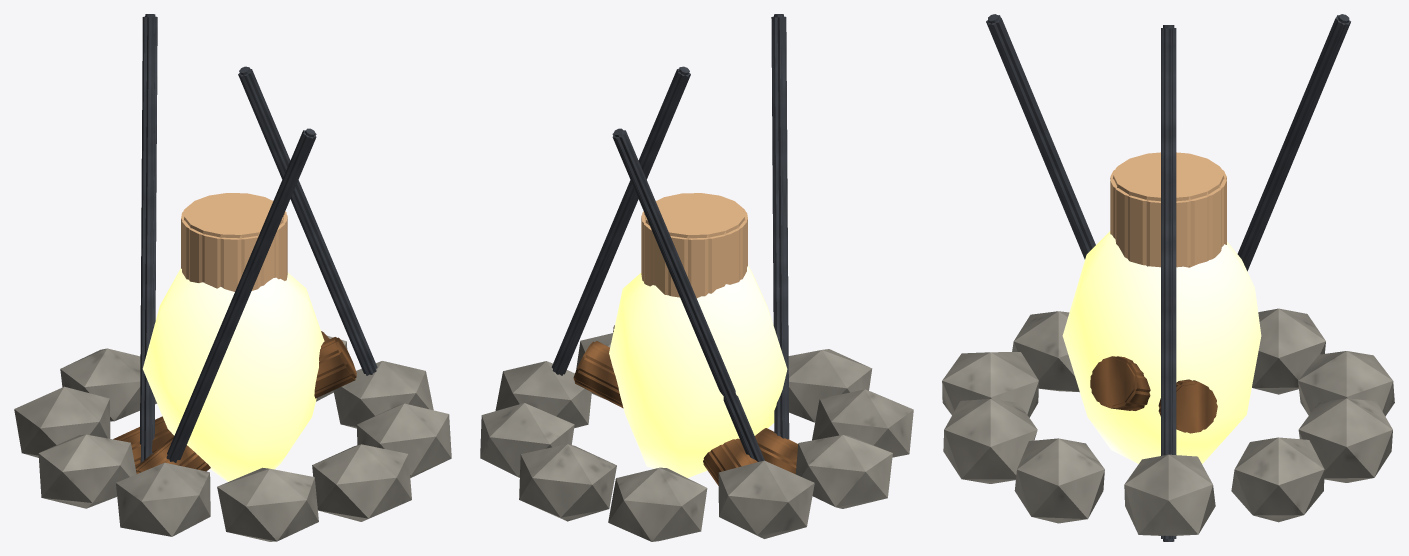
The model's file is furn_campfire.glb.
3 views of the same model, side by side, from view 1: azimuth 30°, elevation 25°; view 2: azimuth 150°, elevation 25°; view 3: azimuth 270°, elevation 25° (orthographic). The views are drawn at different scales.
Visible parts, largest first — view 1: furn_campfire; view 2: furn_campfire; view 3: furn_campfire.
Boxes of the visible parts, left/top/right/bottom form: furn_campfire: left=14, top=14, right=451, bottom=541; furn_campfire: left=480, top=14, right=913, bottom=541; furn_campfire: left=942, top=14, right=1394, bottom=541.
Size of the model in its own units: 0.987 by 0.9989 by 0.919.
5 materials, 3 textured.
